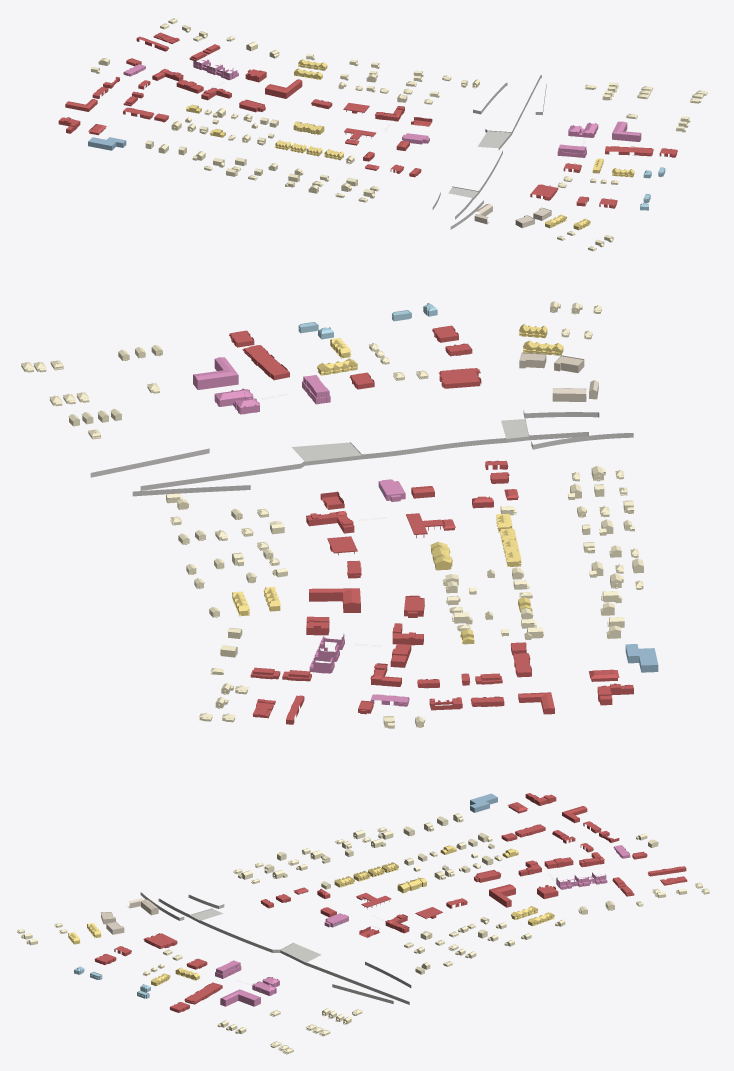
File: Commercial_CC.glb
3 views of the same model, one above another, from view 1: azimuth 30°, elevation 25°; view 2: azimuth 150°, elevation 25°; view 3: azimuth 270°, elevation 25° (orthographic). The views are drawn at different scales.
Visible parts, largest first — view 1: Group1, Mixed_Use_16_1, Light_Industrial_9_1, Light_Industrial_9_2_1; view 2: Group1, Light_Industrial_9_2_1, Light_Industrial_9_1, Mixed_Use_16_1, Arby_s_Building2; view 3: Group1, Light_Industrial_9_2_1, Mixed_Use_16_1.
Boxes of the visible parts, x1,y1,x2,y2 form: Group1: (432,75,546,229); Mixed_Use_16_1: (193,59,238,79); Light_Industrial_9_1: (265,79,302,98); Light_Industrial_9_2_1: (612,121,641,141); Group1: (90,410,633,496); Light_Industrial_9_2_1: (193,357,238,389); Light_Industrial_9_1: (309,588,360,612); Mixed_Use_16_1: (309,633,344,673); Arby_s_Building2: (242,345,289,380); Group1: (140,892,411,1004); Light_Industrial_9_2_1: (220,989,260,1006); Mixed_Use_16_1: (556,872,607,889).
Bounding box in the file's own units: 3372 × 66.63 × 3579.
